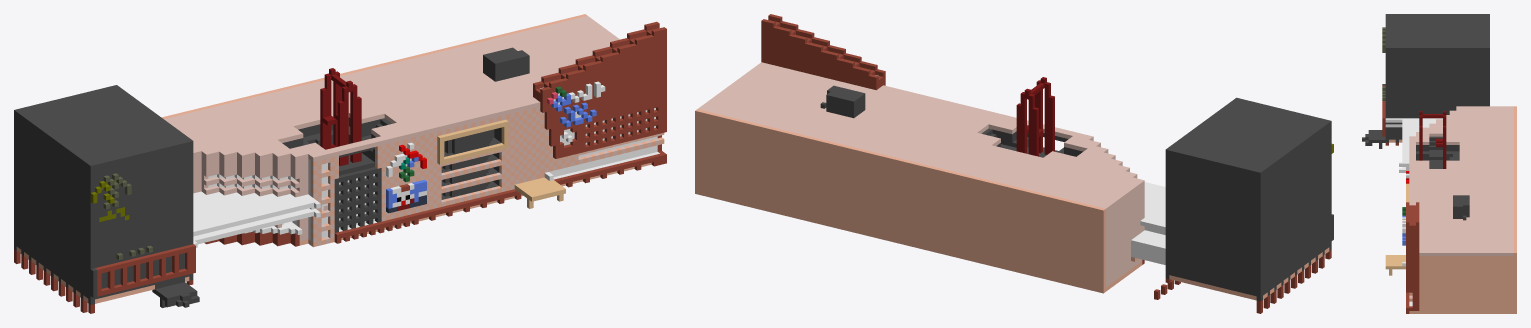
The model's file is amu kanransya.glb.
The picture shows the model from 3 angles, left to right: view 1: azimuth 30°, elevation 25°; view 2: azimuth 150°, elevation 25°; view 3: azimuth 270°, elevation 25°; orthographic projection. The views are drawn at different scales.
Parts seen in each view (by area): view 1: Untitled; view 2: Untitled; view 3: Untitled.
Part boxes in pixels (bbox=[...]): Untitled: bbox=[14, 14, 666, 313]; Untitled: bbox=[695, 14, 1333, 313]; Untitled: bbox=[1362, 14, 1516, 313].
Bounding box in the file's own units: 13.8 × 3.4 × 4.6.
1 material, 1 textured.
